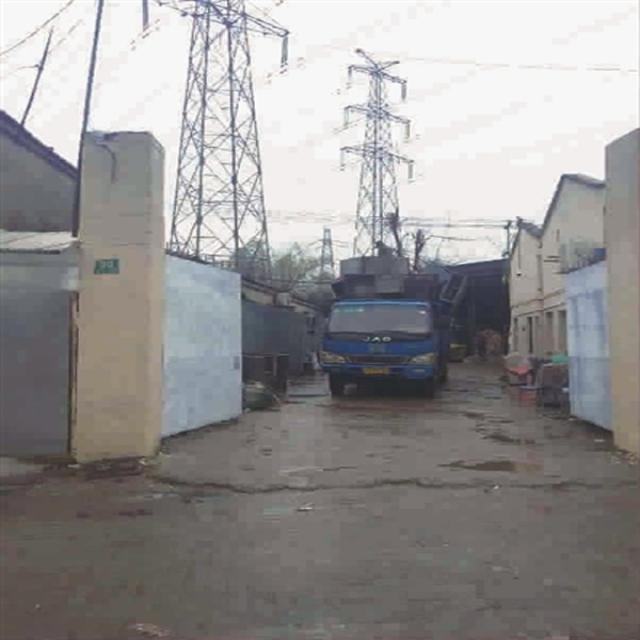non-critical vegetation: (132, 2, 300, 286), (328, 41, 433, 286)
